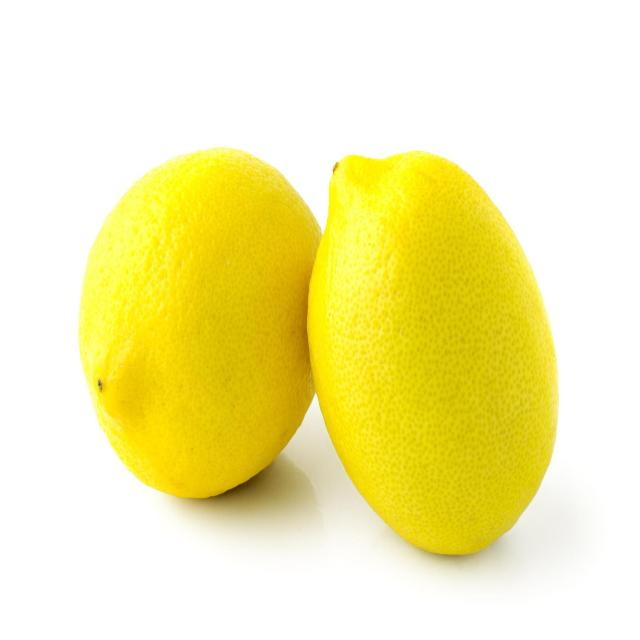lemon: (303, 142, 562, 564), (72, 137, 333, 510)
